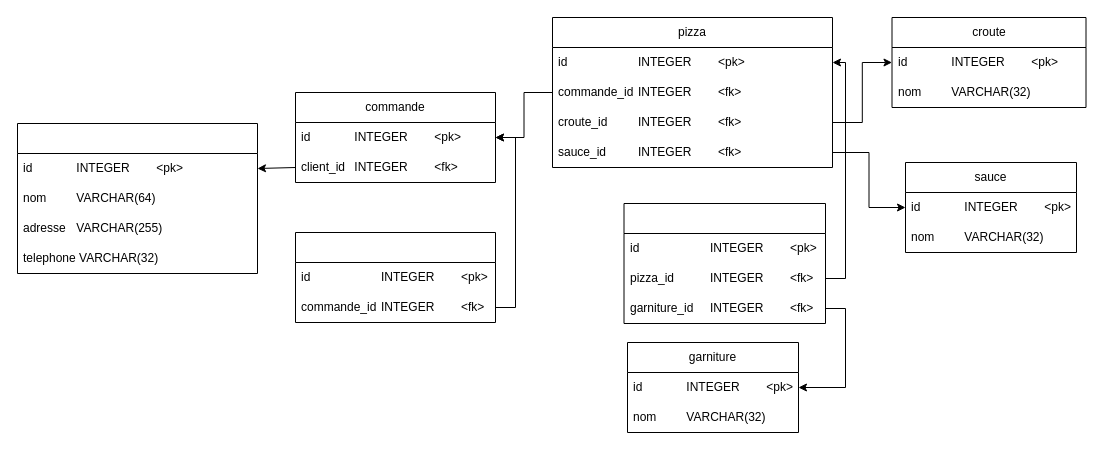
Image size: 1104x450. Some labels were removed from this diagram. The box of each missing label's shape, as (x1, y1, x2, y2) in pixels:
client: (16, 122, 258, 274)
commande_en_attente: (294, 232, 496, 322)
pizza_garniture: (623, 202, 826, 324)
